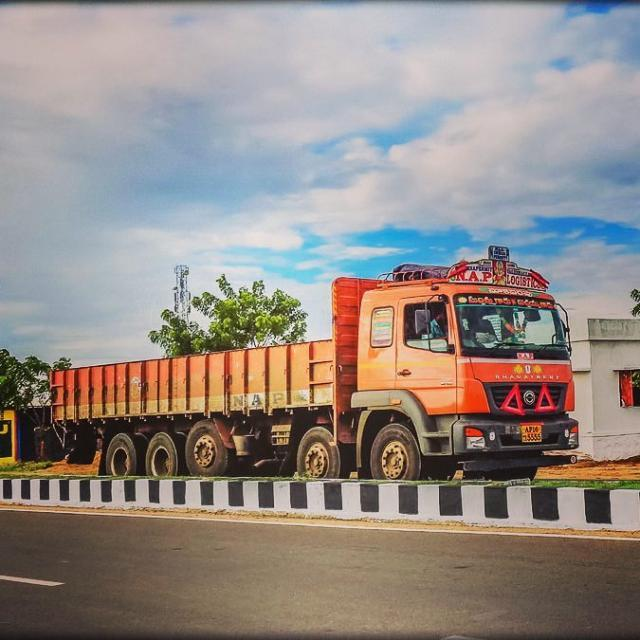Truck: (41, 244, 602, 478)
